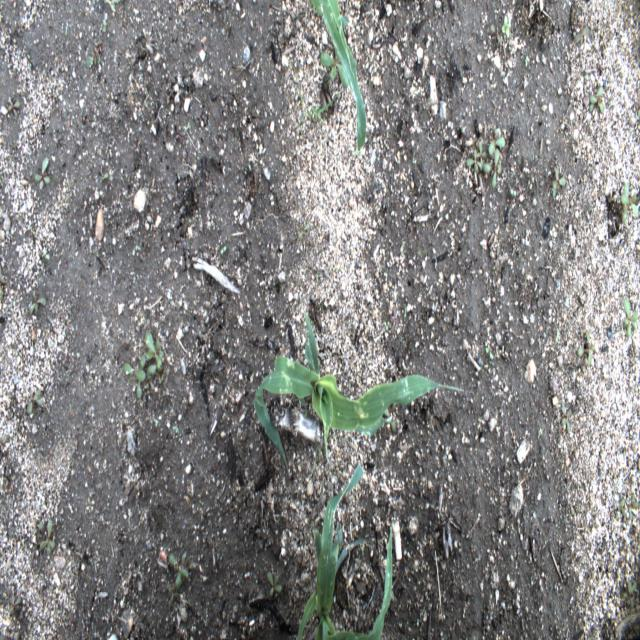crop: (253, 310, 463, 472), (296, 463, 392, 639), (310, 0, 368, 149)
weed: (318, 37, 348, 87), (304, 94, 339, 122), (619, 180, 638, 224), (168, 550, 190, 588), (484, 146, 503, 190), (622, 295, 640, 340), (576, 330, 596, 368), (39, 517, 57, 559), (144, 328, 162, 367), (32, 156, 52, 189), (134, 353, 146, 397), (86, 38, 103, 68), (588, 84, 604, 114), (486, 128, 506, 152), (464, 147, 482, 171), (123, 361, 147, 378), (267, 572, 282, 597), (7, 93, 21, 119), (166, 582, 181, 606), (621, 582, 637, 604), (475, 140, 486, 172), (27, 391, 42, 414), (29, 296, 47, 314), (554, 169, 566, 195), (7, 594, 21, 616), (490, 21, 502, 45), (99, 0, 121, 13), (297, 222, 310, 240), (617, 498, 626, 521), (502, 15, 511, 38), (628, 493, 639, 511), (0, 261, 5, 298), (152, 370, 161, 385), (100, 17, 107, 35), (417, 248, 428, 258), (360, 543, 366, 560), (384, 319, 391, 333), (402, 305, 408, 320), (509, 186, 516, 196), (220, 245, 227, 254)
